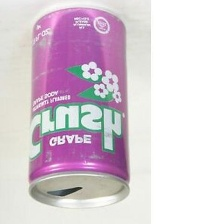can: (22, 3, 135, 211)
